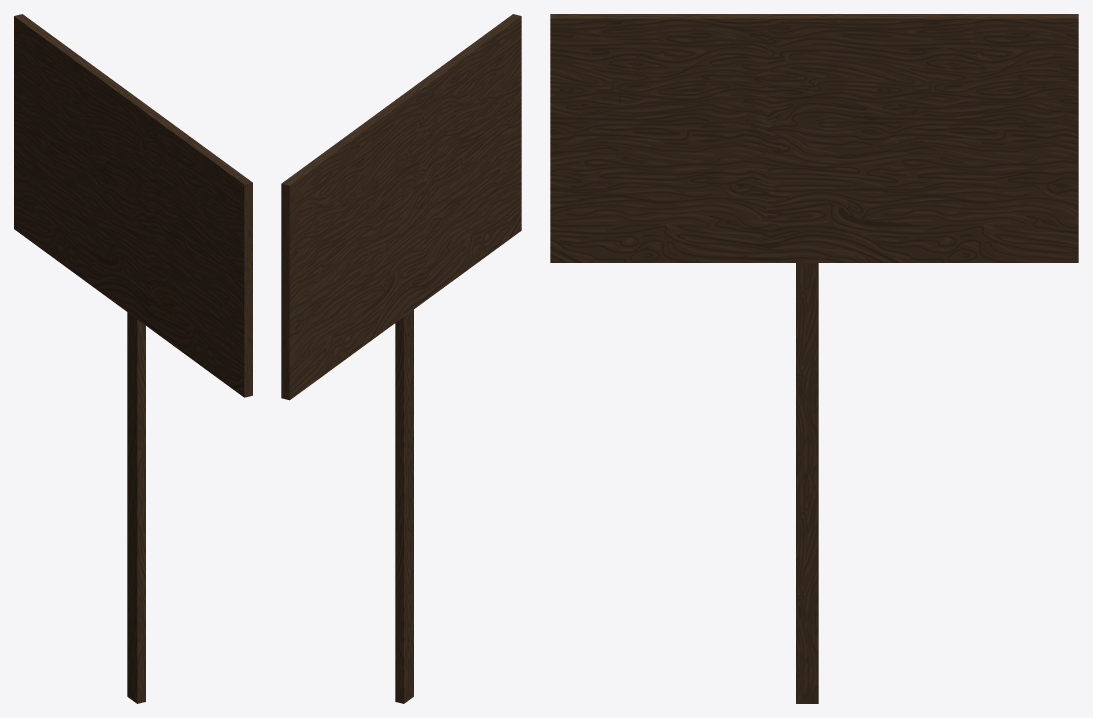
Rendered from Unwrapped_sign.fbx.
3 renders of one model, left to right at view 1: azimuth 30°, elevation 25°; view 2: azimuth 150°, elevation 25°; view 3: azimuth 270°, elevation 25°, orthographic. The views are drawn at different scales.
Visible parts, largest first — view 1: Box005; view 2: Box005; view 3: Box005.
Part boxes in pixels (left/top/right/bottom): Box005: left=14, top=14, right=252, bottom=703; Box005: left=281, top=14, right=521, bottom=703; Box005: left=550, top=14, right=1078, bottom=703.
Size of the model in its own units: 0.0832 by 5.56 by 3.89.
